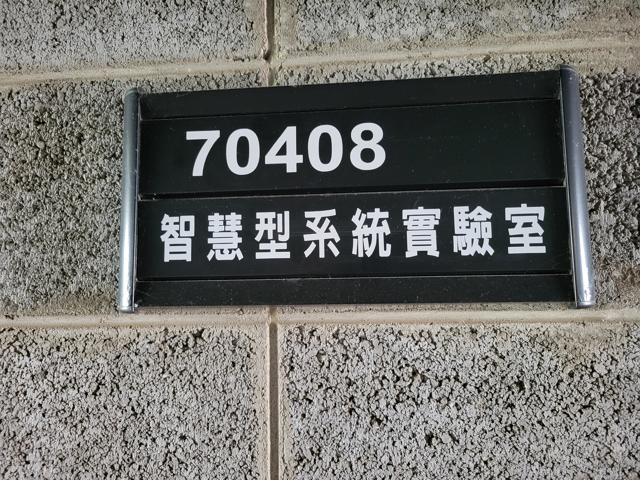doorplate: (107, 58, 613, 325)
